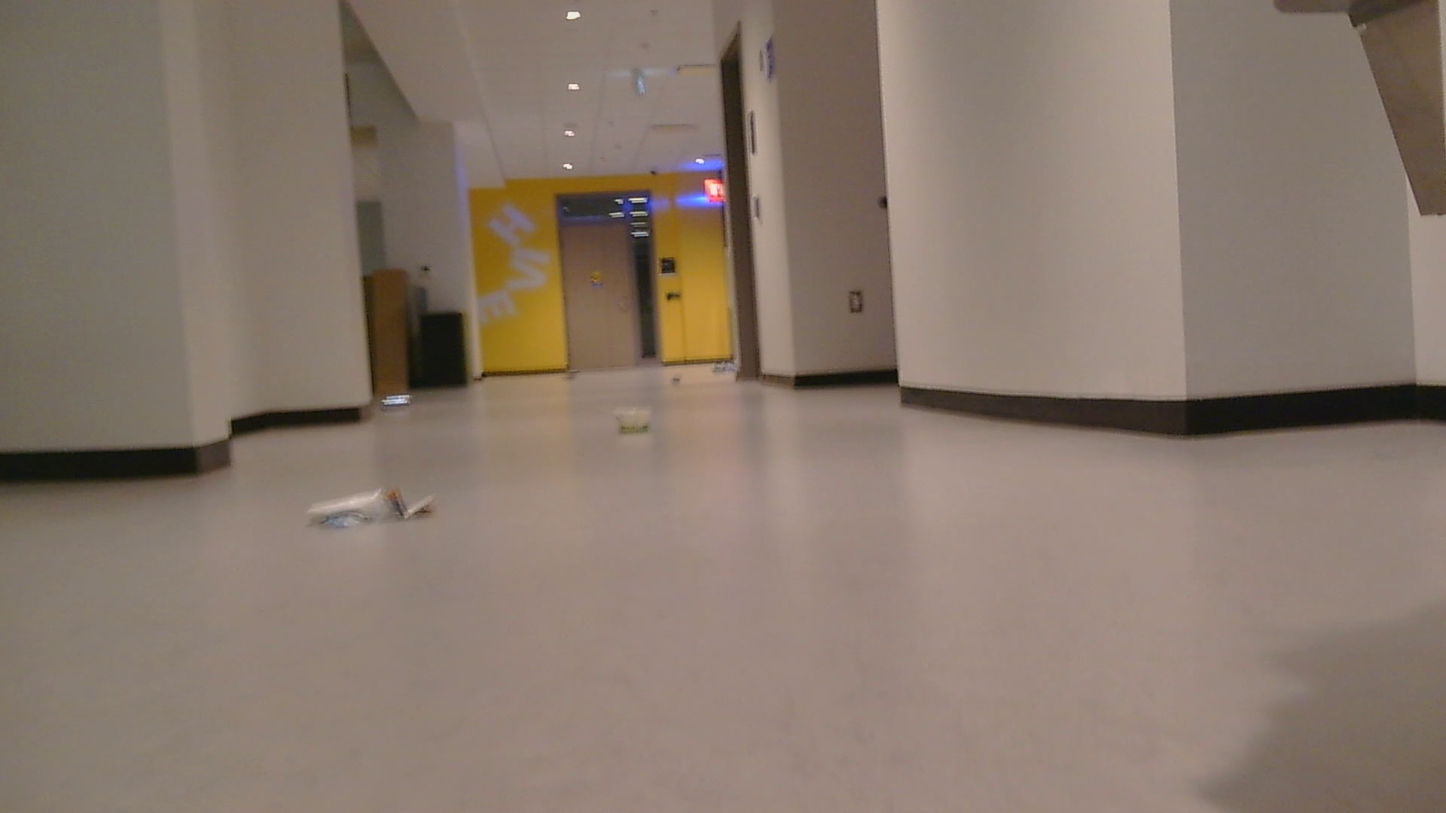can: (377, 525, 378, 525)
carton: (303, 476, 457, 546), (368, 391, 429, 419), (616, 403, 672, 432), (565, 363, 584, 384), (714, 361, 746, 371), (670, 373, 687, 388)
